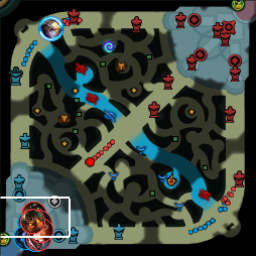ezreal: (40, 17, 62, 38)
kindred: (14, 227, 38, 249)
lucian: (27, 227, 51, 248)
missfortune: (29, 218, 51, 241)
nautilus: (20, 211, 45, 232)
renekton: (22, 201, 45, 223)
